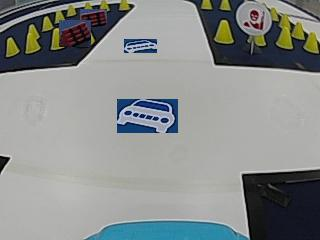evil: (235, 2, 271, 35)
